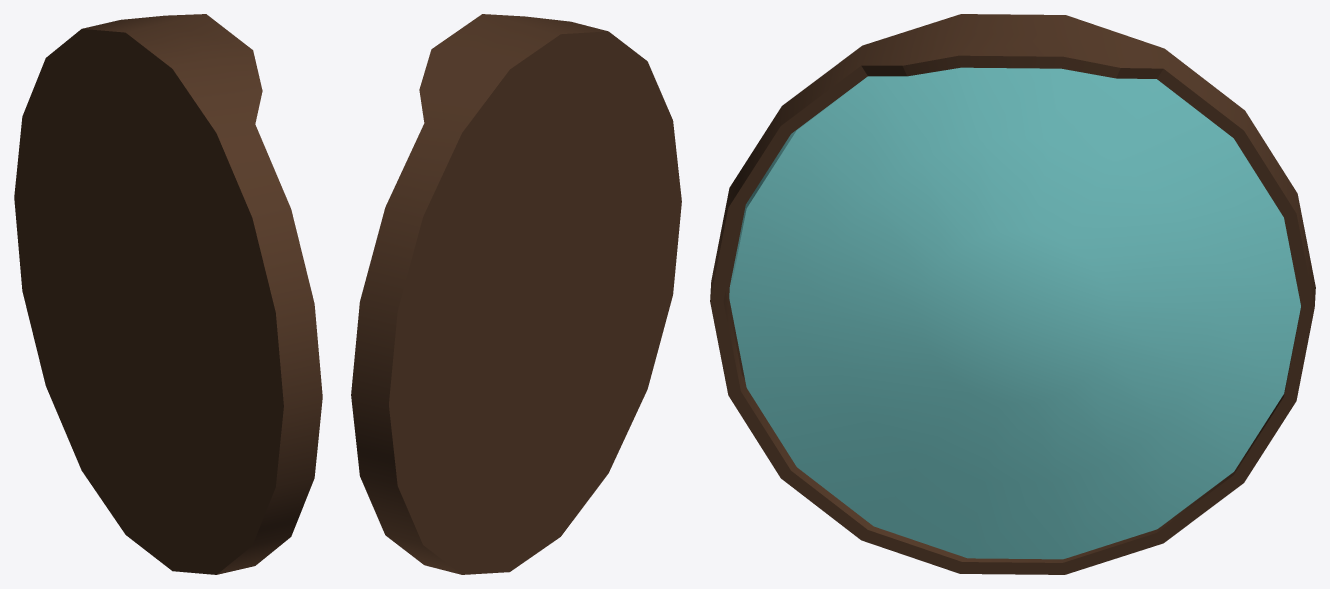
File: convex mirrior board.fbx
The picture shows the model from 3 angles, left to right: view 1: azimuth 30°, elevation 25°; view 2: azimuth 150°, elevation 25°; view 3: azimuth 270°, elevation 25°; orthographic projection. The views are drawn at different scales.
Visible parts, largest first — view 1: mirror_board; view 2: mirror_board; view 3: mirror1, mirror_board.
Boxes of the visible parts, box(x1,y1,x2,y2) form: mirror_board: box(14, 14, 322, 574); mirror_board: box(351, 14, 681, 574); mirror1: box(729, 67, 1300, 559); mirror_board: box(710, 14, 1315, 574).
Size of the model in its own units: 26.95 by 150 by 152.
